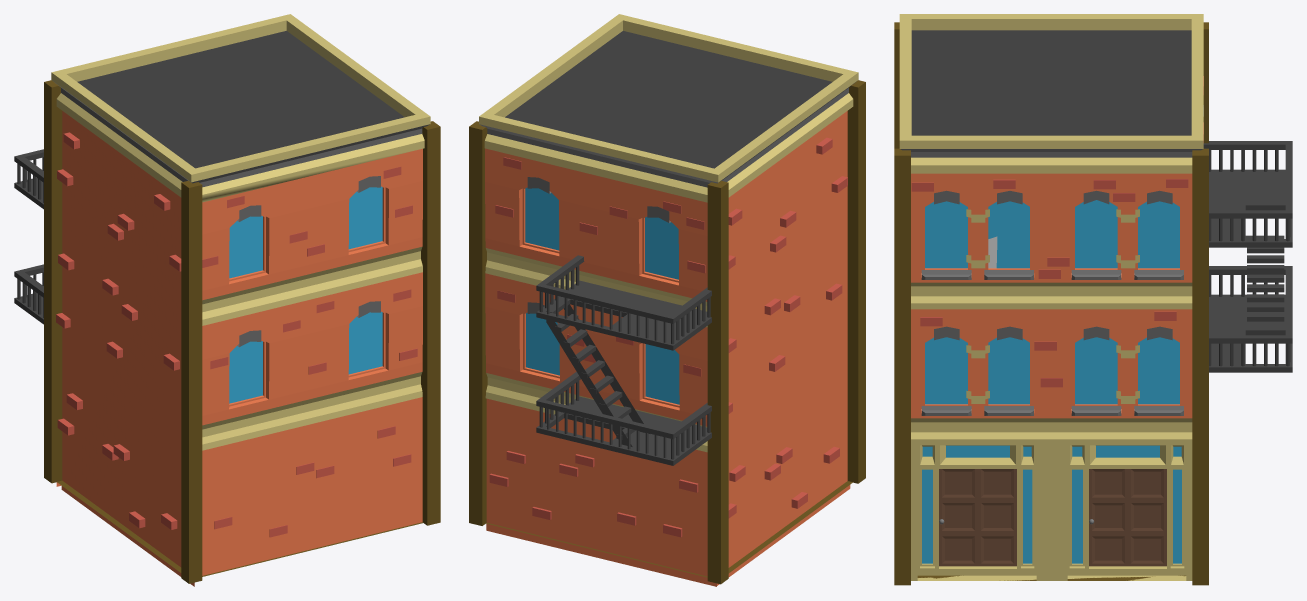
The model's file is Building #1.fbx.
The picture shows the model from 3 angles, left to right: view 1: azimuth 30°, elevation 25°; view 2: azimuth 150°, elevation 25°; view 3: azimuth 270°, elevation 25°; orthographic projection. The views are drawn at different scales.
Visible parts, largest first — view 1: Fläche.045; view 2: Fläche.045; view 3: Fläche.045.
Boxes of the visible parts, bbox=[...] form: Fläche.045: bbox=[14, 14, 440, 586]; Fläche.045: bbox=[469, 14, 865, 586]; Fläche.045: bbox=[894, 14, 1292, 585].
Bounding box in the file's own units: 421 × 664 × 532.
